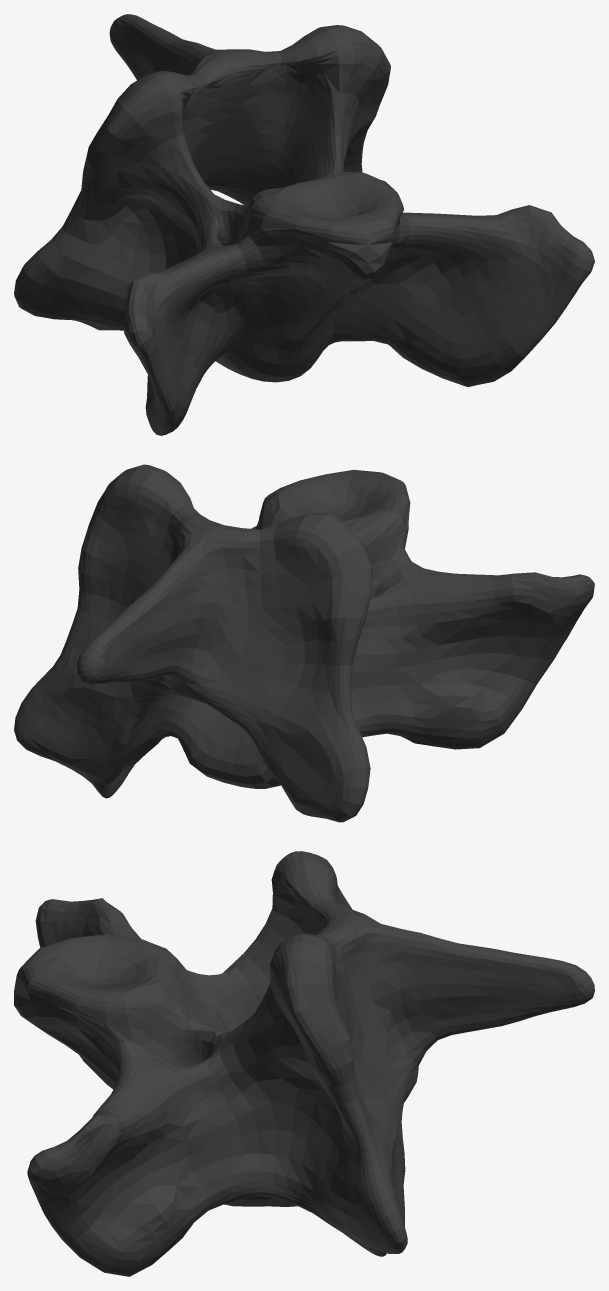
The picture shows the model from 3 angles, top to bottom: view 1: azimuth 30°, elevation 25°; view 2: azimuth 150°, elevation 25°; view 3: azimuth 270°, elevation 25°; orthographic projection. The views are drawn at different scales.
Visible parts, largest first — view 1: B_C7; view 2: B_C7; view 3: B_C7.
Part boxes in pixels (bbox=[...]): B_C7: bbox=[14, 14, 594, 435]; B_C7: bbox=[14, 464, 594, 822]; B_C7: bbox=[14, 851, 594, 1276].
Size of the model in its own units: 0.00269 by 0.00173 by 0.00288.
1 material, 1 textured.
